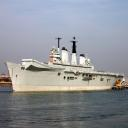Portanaves: (5, 36, 128, 95)
